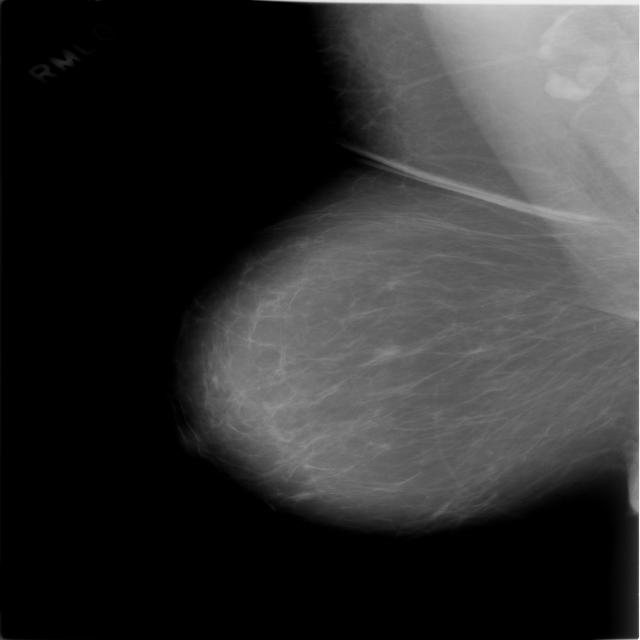normal: (171, 0, 640, 544)
